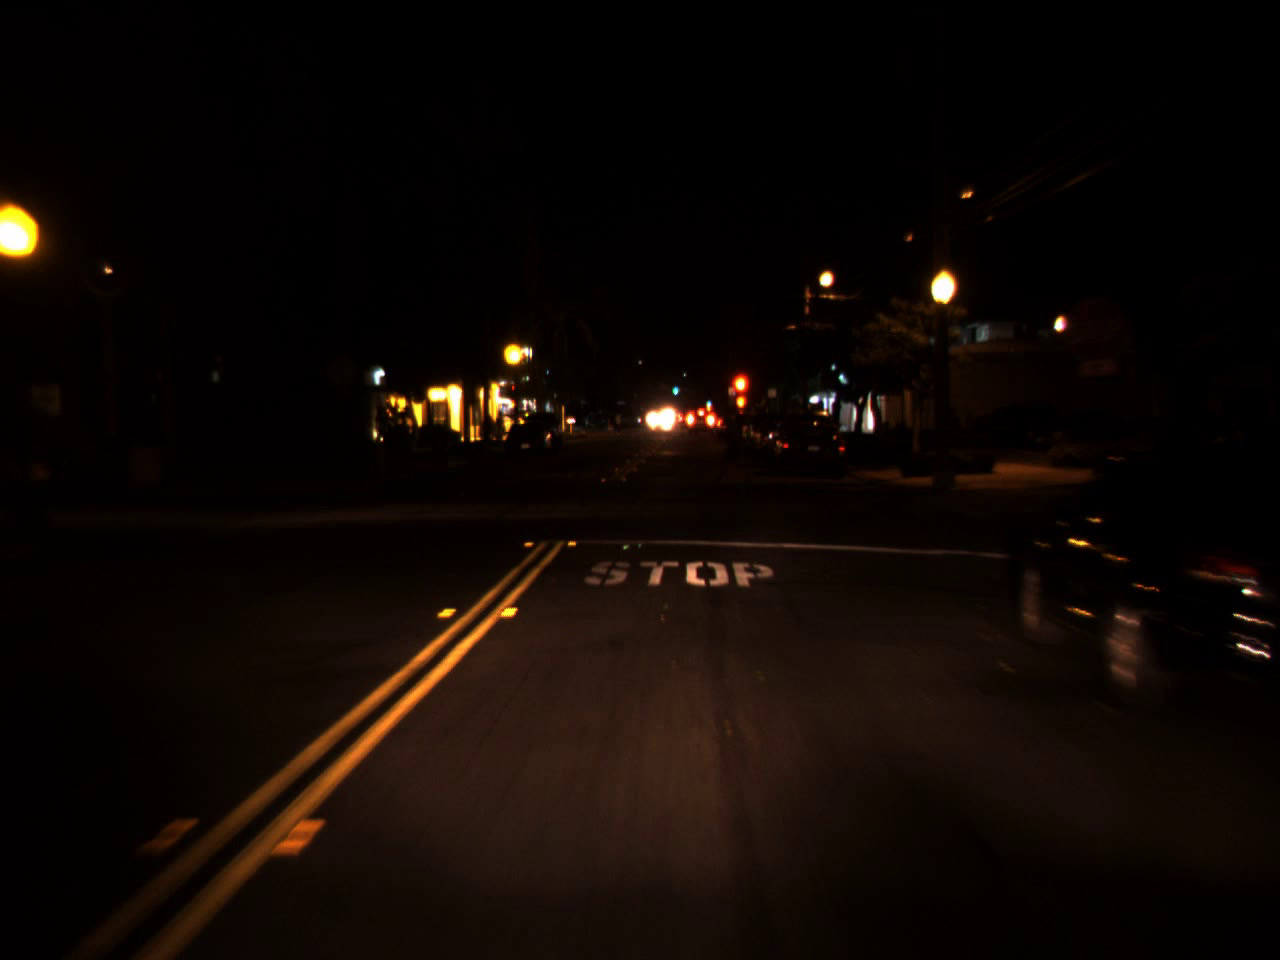go: (669, 379, 679, 397), (705, 394, 712, 406)
stop: (728, 370, 752, 418)
